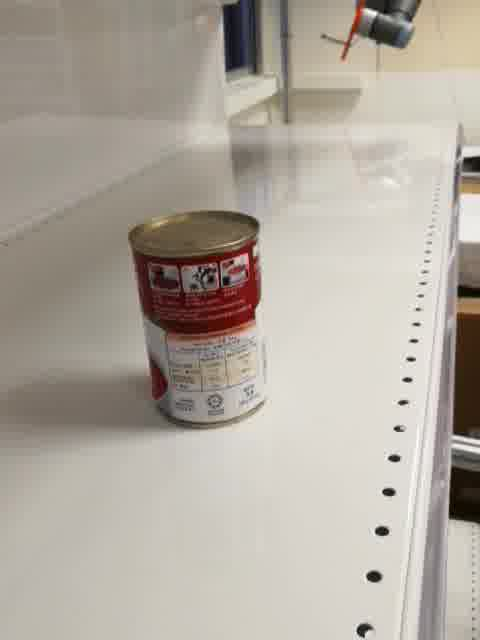tomatosoup: (125, 208, 273, 432)
